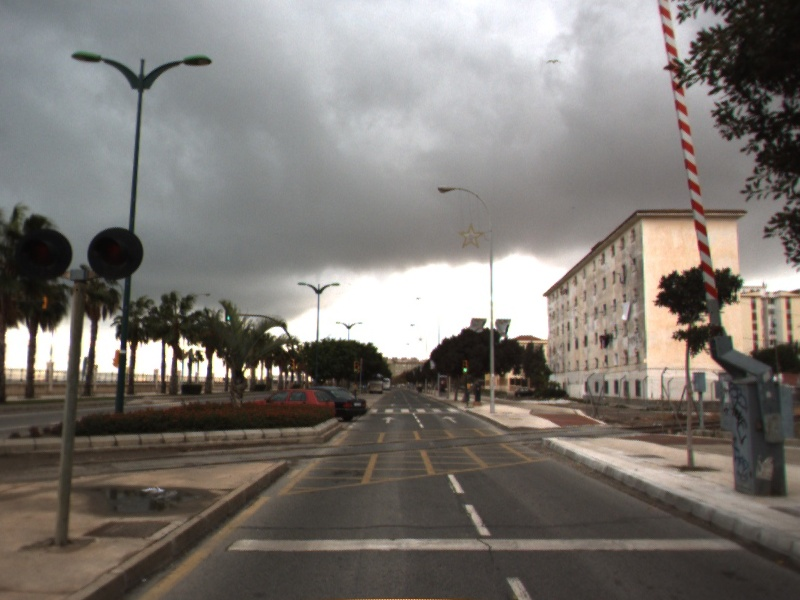STRAIGHT: (440, 414, 459, 425), (380, 415, 398, 425)
